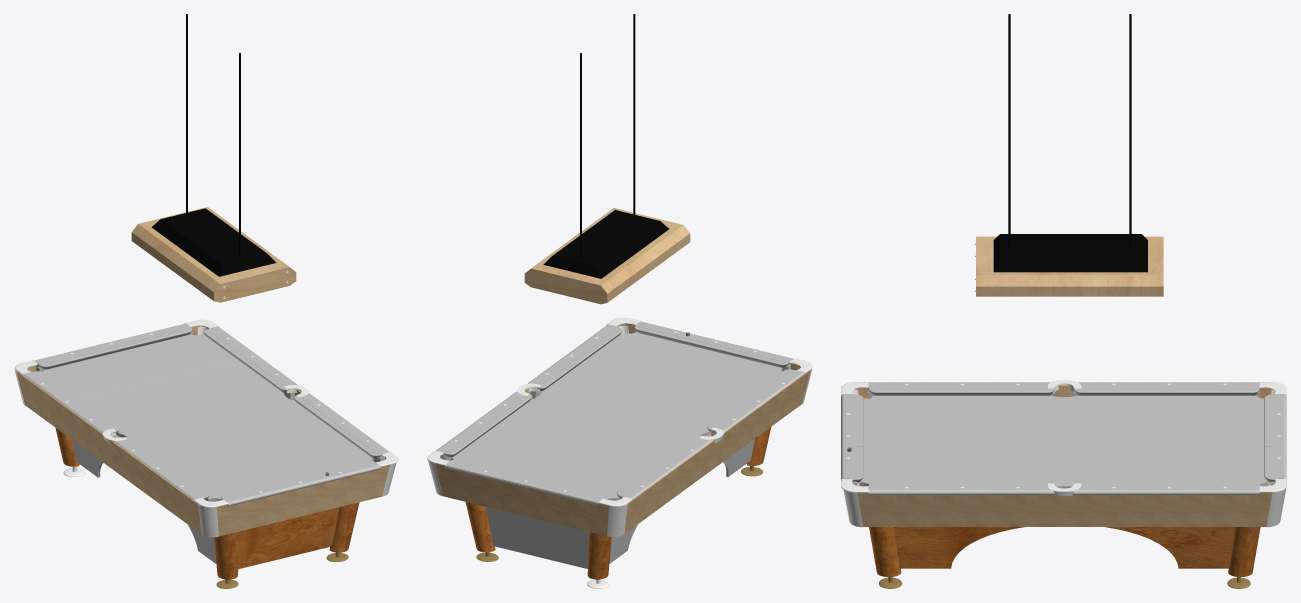
The picture shows the model from 3 angles, left to right: view 1: azimuth 30°, elevation 25°; view 2: azimuth 150°, elevation 25°; view 3: azimuth 270°, elevation 25°; orthographic projection. The views are drawn at different scales.
Visible parts, largest first — view 1: Table01, Rectangle07, Rectangle101, Box33, Rectangle10, Circle04, Rectangle08, Rectangle12, Object17; view 2: Table01, Rectangle07, Rectangle101, Box33, Rectangle11, Circle04, Rectangle08, Rectangle12, Object17, Cylinder27; view 3: Table01, Rectangle07, Rectangle09, Box33, Rectangle101, Circle04, Rectangle12, Object17, Cylinder26, Cylinder27.
Boxes of the visible parts, <box> form: Table01: <box>23,323,389,506</box>; Rectangle07: <box>14,325,389,536</box>; Rectangle101: <box>131,207,296,302</box>; Box33: <box>151,208,276,276</box>; Rectangle10: <box>236,507,339,569</box>; Circle04: <box>55,428,359,579</box>; Rectangle08: <box>71,440,216,563</box>; Rectangle12: <box>14,326,396,537</box>; Object17: <box>15,319,398,466</box>; Table01: <box>436,321,804,505</box>; Rectangle07: <box>435,322,810,536</box>; Rectangle101: <box>524,208,690,304</box>; Box33: <box>543,210,668,278</box>; Rectangle11: <box>485,507,589,568</box>; Circle04: <box>465,427,771,579</box>; Rectangle08: <box>609,439,754,563</box>; Rectangle12: <box>428,325,812,536</box>; Object17: <box>427,317,640,506</box>; Cylinder27: <box>633,14,635,219</box>; Table01: <box>841,382,1286,494</box>; Rectangle07: <box>854,382,1286,526</box>; Rectangle09: <box>893,527,1235,568</box>; Box33: <box>993,234,1147,272</box>; Rectangle101: <box>976,236,1163,296</box>; Circle04: <box>869,527,1260,577</box>; Rectangle12: <box>843,389,1286,527</box>; Object17: <box>841,382,1286,492</box>; Cylinder26: <box>1129,14,1131,246</box>; Cylinder27: <box>1008,14,1010,246</box>.
Bounding box in the file's own units: 179 × 406 × 302.
